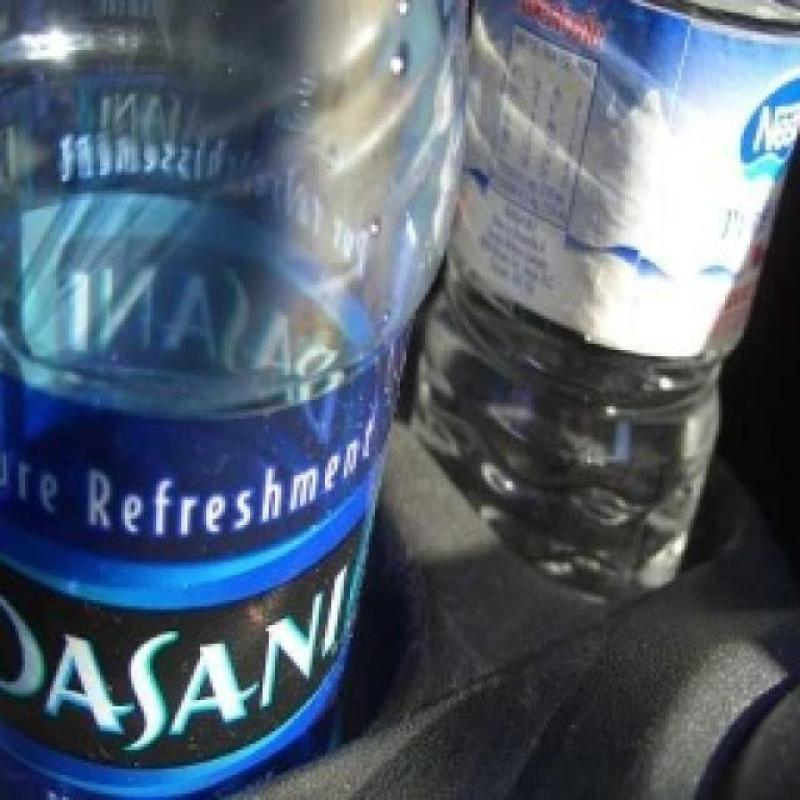botella: (0, 0, 472, 800), (409, 0, 800, 609)
